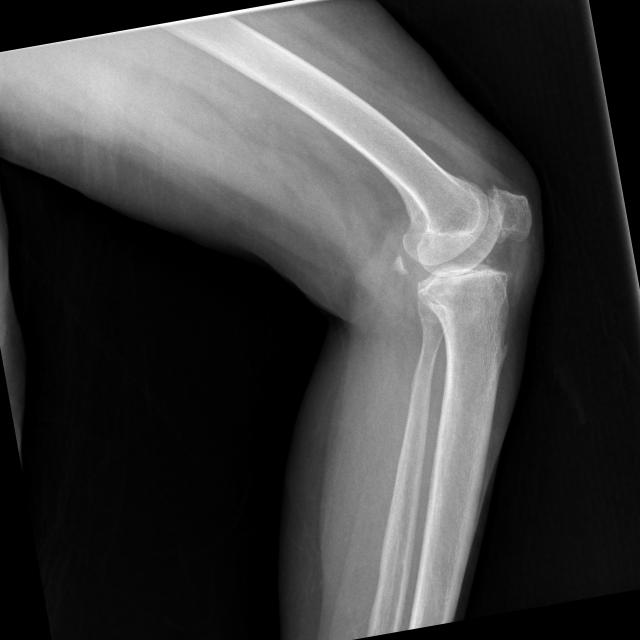Knee: (396, 176, 550, 316)
